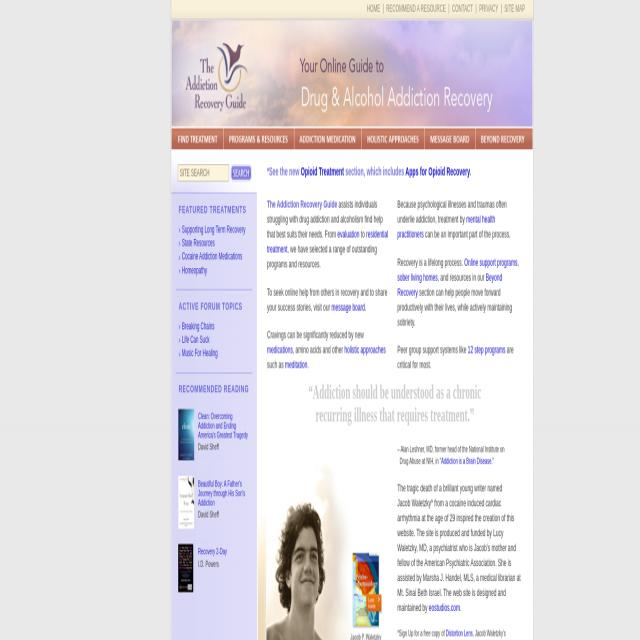button: (265, 448, 388, 640), (180, 29, 256, 116), (223, 127, 294, 151), (294, 127, 362, 151), (362, 127, 424, 151), (476, 127, 532, 151), (172, 127, 224, 151), (424, 127, 476, 151), (178, 476, 194, 528), (178, 409, 194, 460), (178, 544, 194, 592), (230, 164, 252, 182)
field: (180, 164, 230, 182)
